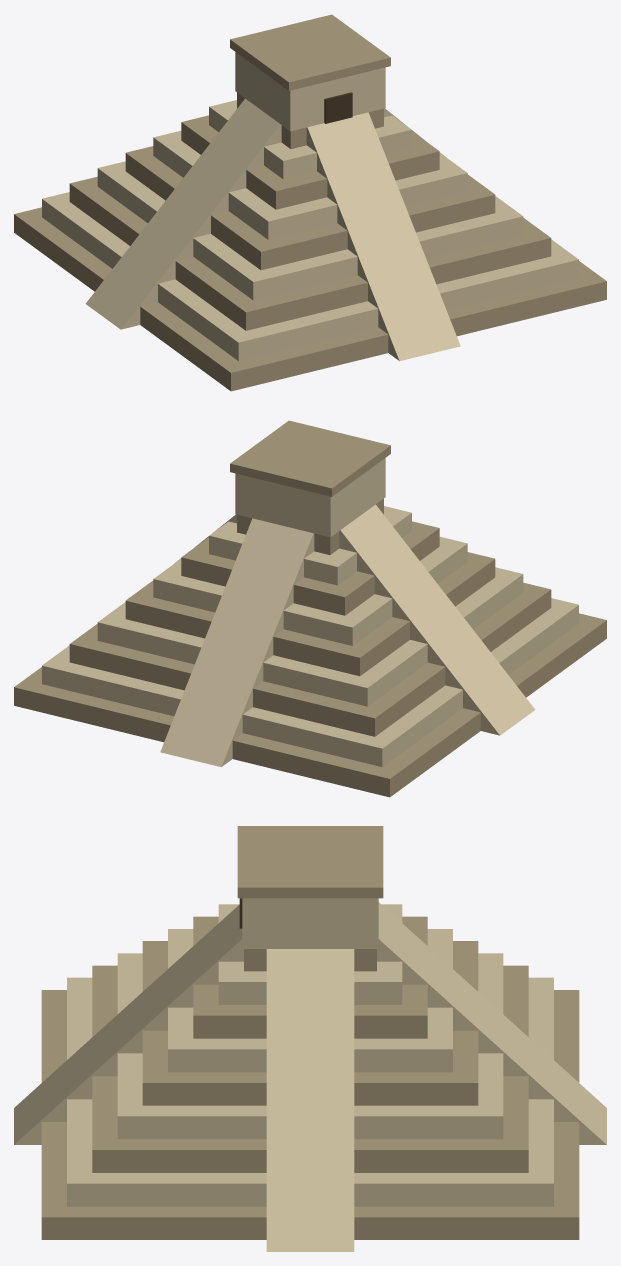
The picture shows the model from 3 angles, top to bottom: view 1: azimuth 30°, elevation 25°; view 2: azimuth 150°, elevation 25°; view 3: azimuth 270°, elevation 25°; orthographic projection. The views are drawn at different scales.
Size of what is drawn, in the model's own units: 61 by 30.6 by 61.
